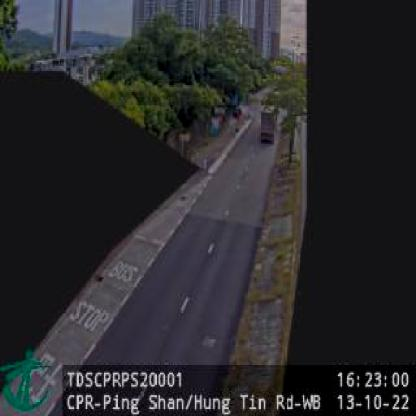Bus: (258, 104, 278, 146)
